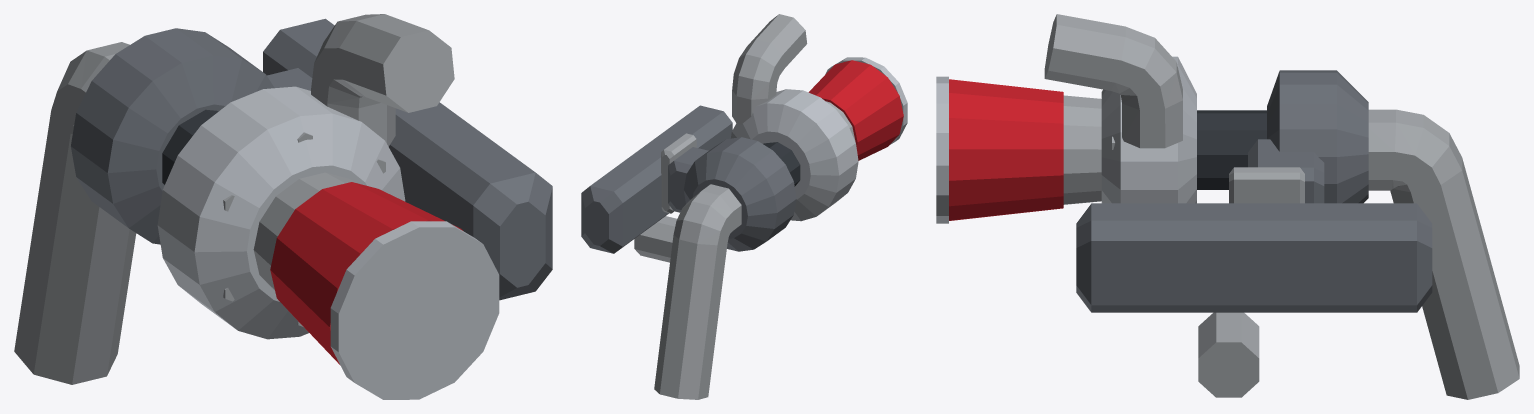
Rendered from kaze_gt.glb.
3 renders of one model, left to right at view 1: azimuth 30°, elevation 25°; view 2: azimuth 150°, elevation 25°; view 3: azimuth 270°, elevation 25°, orthographic. The views are drawn at different scales.
Visible parts, largest first — view 1: model; view 2: model; view 3: model.
Boxes of the visible parts, left/top/right/bottom form: model: left=14, top=14, right=552, bottom=399; model: left=581, top=14, right=907, bottom=399; model: left=936, top=14, right=1519, bottom=399.
Size of the model in its own units: 0.2386 by 0.3448 by 0.4587.
2 materials, 1 textured.
